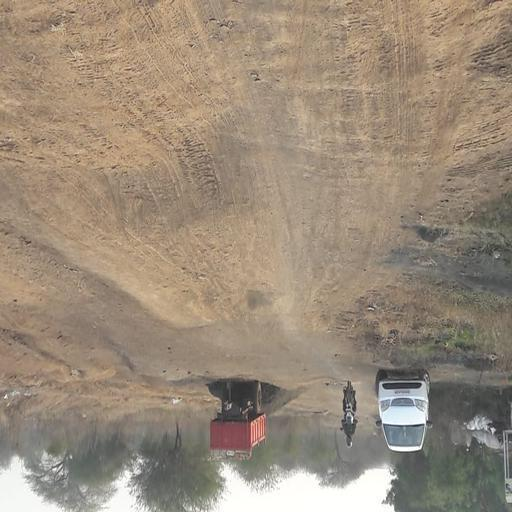vehicle_track: (191, 0, 460, 379)
